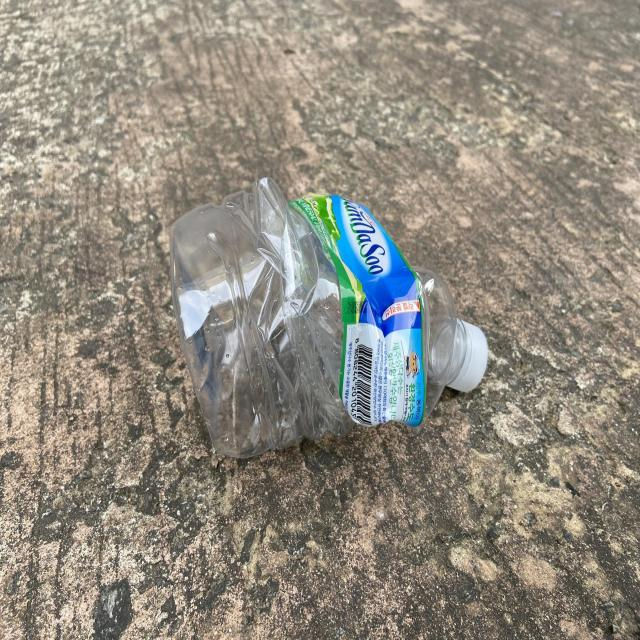plastic: (170, 177, 488, 458)
